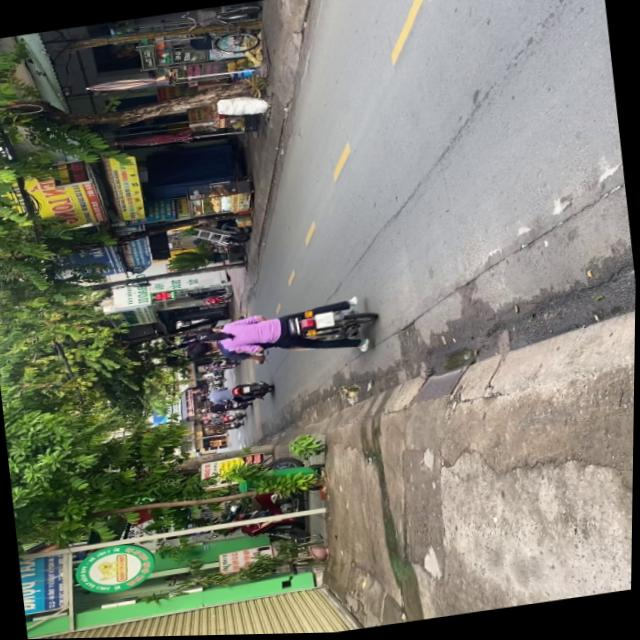licenseplate: (183, 293, 380, 373)
motorcyclist: (186, 338, 220, 359), (195, 327, 224, 344)
nohelmet: (315, 312, 337, 328)
